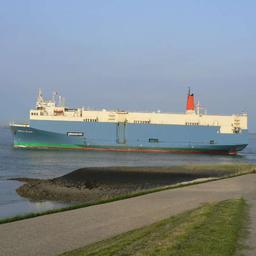Ship: (9, 89, 251, 158)
